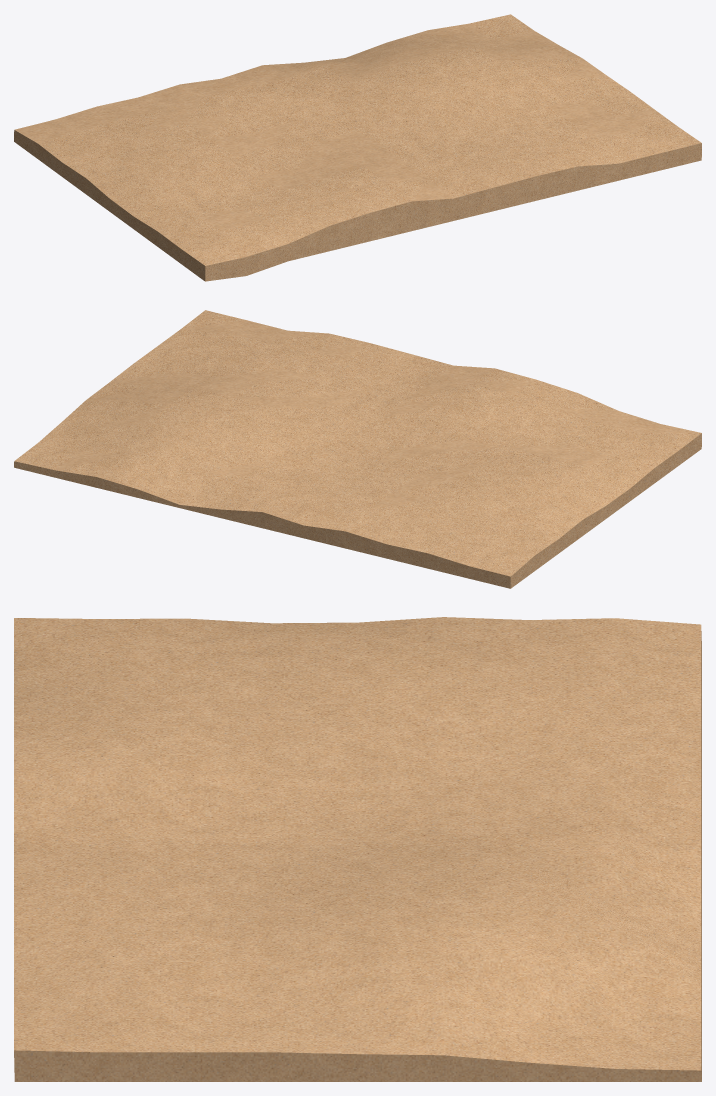
File: sand.fbx
The picture shows the model from 3 angles, top to bottom: view 1: azimuth 30°, elevation 25°; view 2: azimuth 150°, elevation 25°; view 3: azimuth 270°, elevation 25°; orthographic projection. The views are drawn at different scales.
Visible parts, largest first — view 1: Plane.001; view 2: Plane.001; view 3: Plane.001.
Boxes of the visible parts, x1=… form: Plane.001: x1=14, y1=14, x2=701, y2=281; Plane.001: x1=14, y1=310, x2=701, y2=588; Plane.001: x1=14, y1=617, x2=701, y2=1081.
Size of the model in its own units: 18793 by 1349 by 12541.
Materials: 1 (1 with a texture image).
